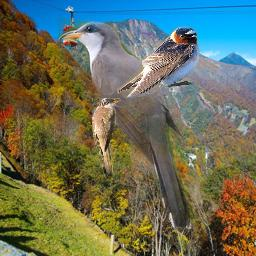Cuckoo: (58, 18, 197, 237), (92, 98, 121, 177)
Swallow: (117, 26, 200, 100)
